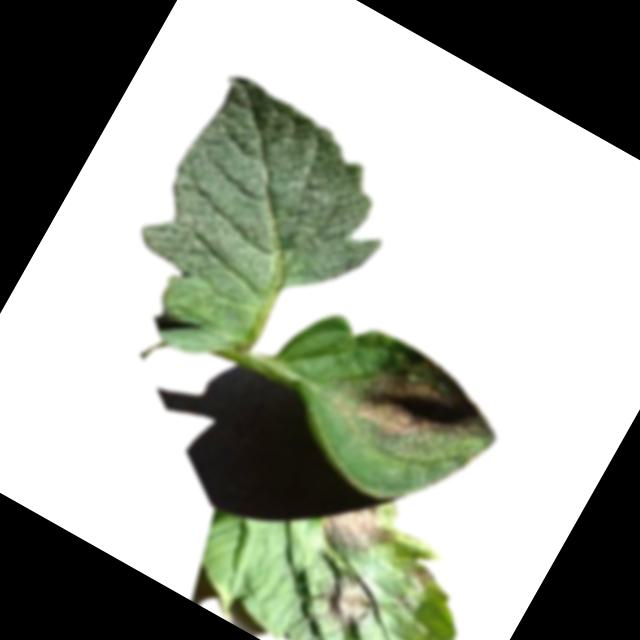Late_blight: (350, 337, 510, 478), (310, 487, 402, 574), (308, 562, 392, 640), (406, 558, 439, 591)
